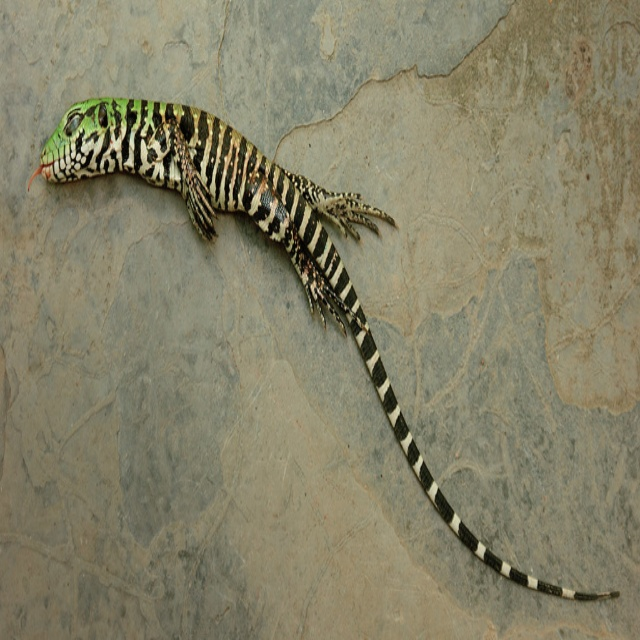Lizard: (20, 99, 614, 600)
